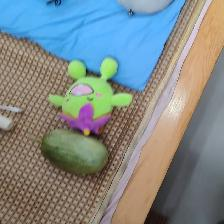gua: (37, 133, 110, 171)
